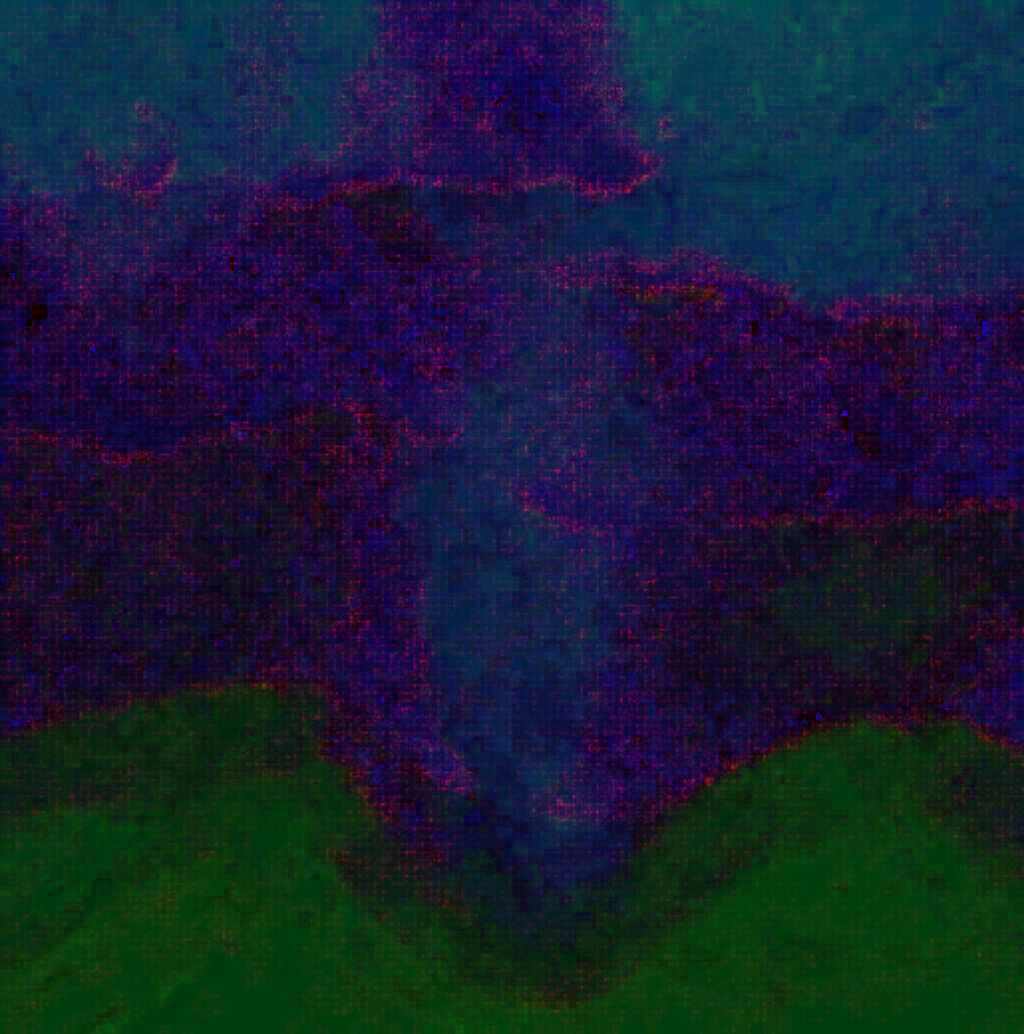rip_current: (341, 92, 686, 902)
